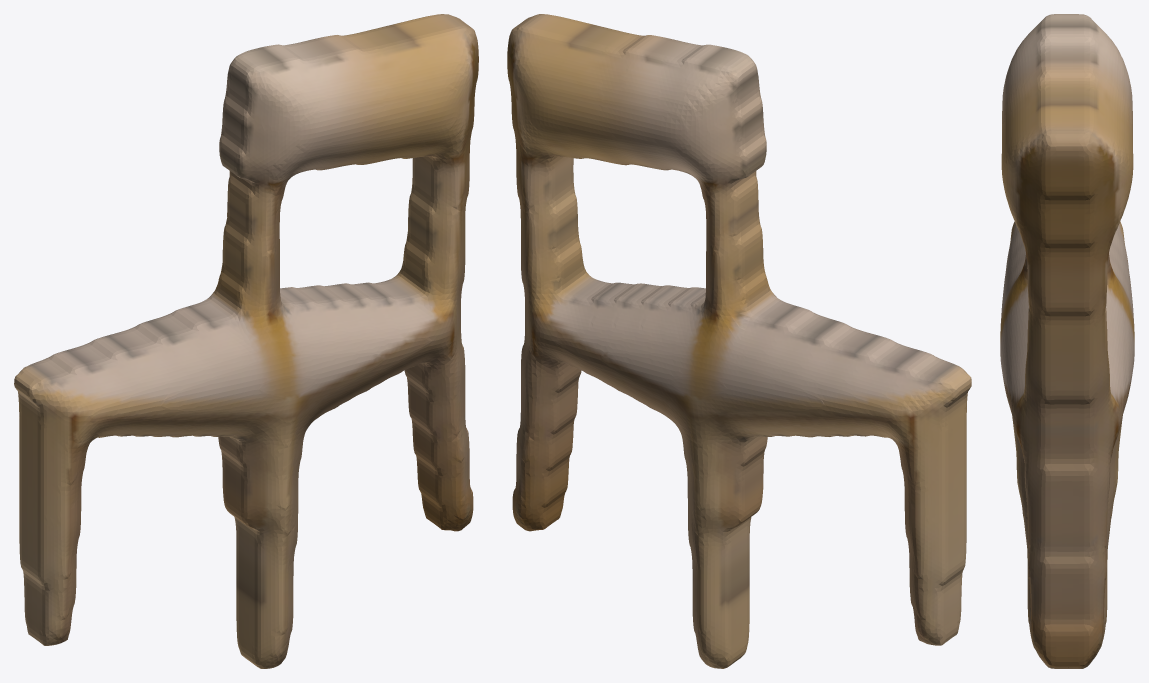
3 views of the same model, side by side, from view 1: azimuth 30°, elevation 25°; view 2: azimuth 150°, elevation 25°; view 3: azimuth 270°, elevation 25° (orthographic). The views are drawn at different scales.
Visible parts, largest first — view 1: geometry_0; view 2: geometry_0; view 3: geometry_0.
Part boxes in pixels (box(x1,y1,x2,y2)): geometry_0: box(14, 14, 478, 668); geometry_0: box(507, 14, 971, 668); geometry_0: box(1000, 14, 1134, 668).
Size of the model in its own units: 0.7724 by 1 by 0.1894.
